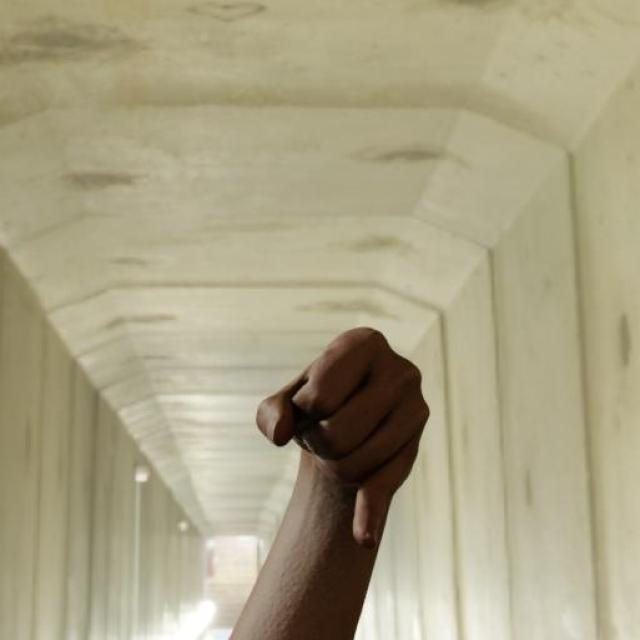J: (252, 326, 438, 553)
